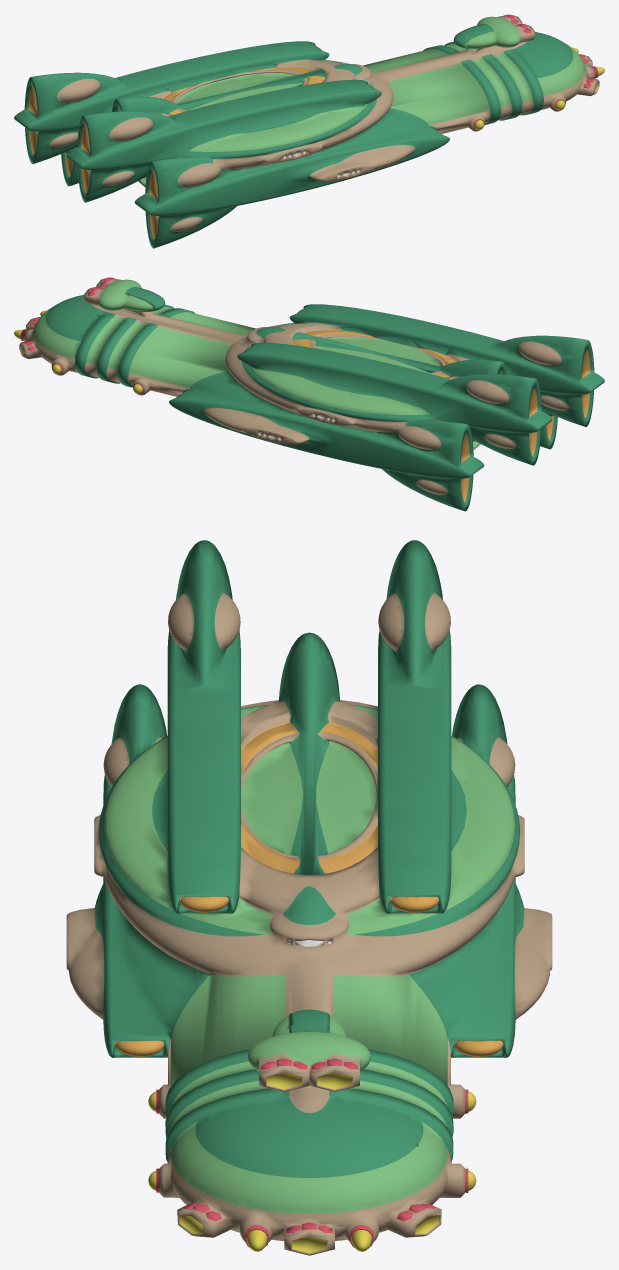
Rendered from kre-star-lord.glb.
3 views of the same model, one above another, from view 1: azimuth 30°, elevation 25°; view 2: azimuth 150°, elevation 25°; view 3: azimuth 270°, elevation 25° (orthographic). The views are drawn at different scales.
Visible parts, largest first — view 1: Star Lord current hull - authored COLOR_0 regions; view 2: Star Lord current hull - authored COLOR_0 regions; view 3: Star Lord current hull - authored COLOR_0 regions.
Part boxes in pixels (x1,y1,x2,y2): Star Lord current hull - authored COLOR_0 regions: [14, 14, 604, 248]; Star Lord current hull - authored COLOR_0 regions: [14, 277, 604, 511]; Star Lord current hull - authored COLOR_0 regions: [66, 540, 552, 1255].
Bounding box in the file's own units: 8.13 × 1.9 × 3.14.
